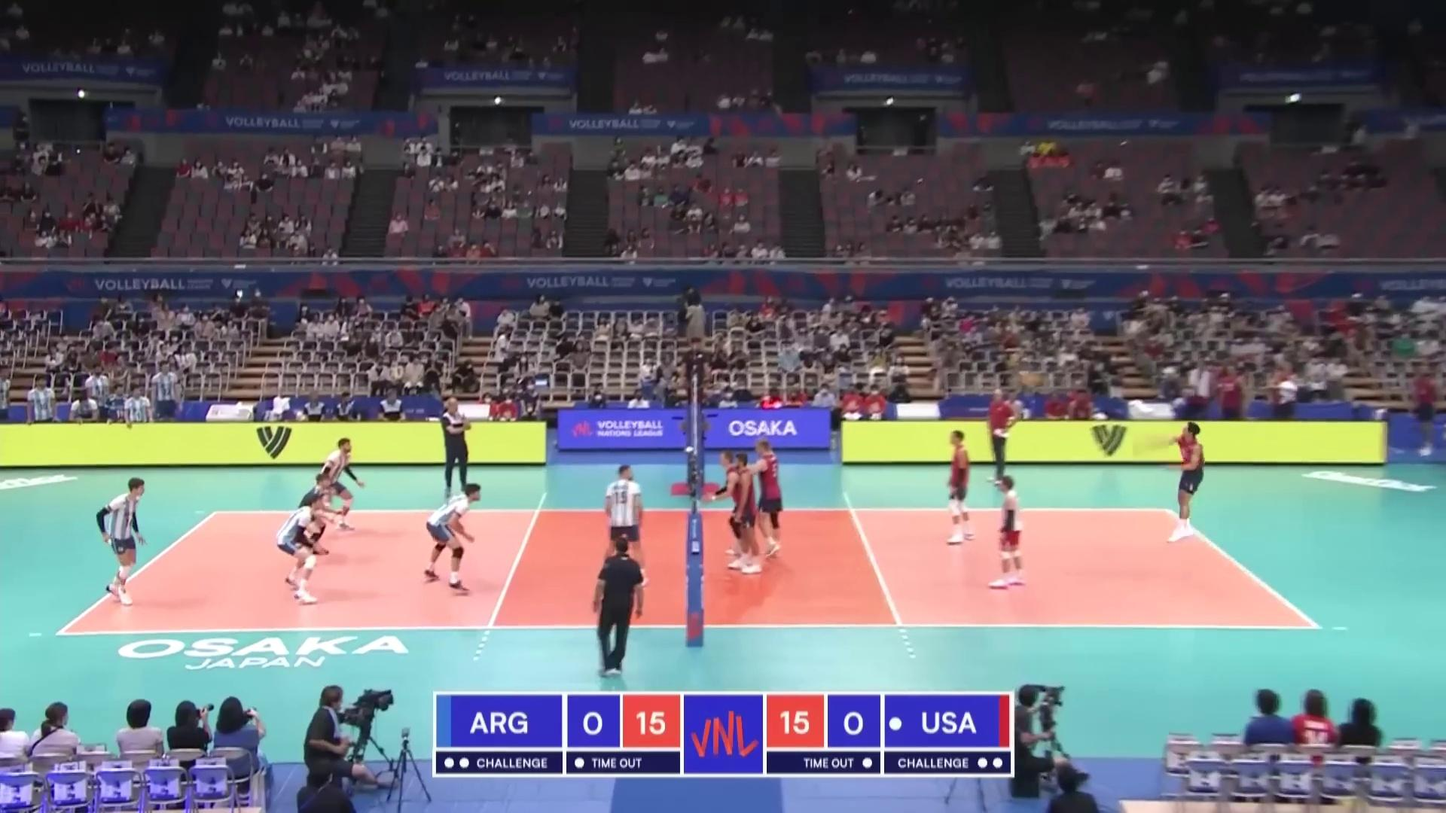player: (422, 485, 484, 596), (94, 479, 148, 606), (275, 492, 327, 605), (604, 465, 648, 589), (1168, 419, 1206, 546), (711, 451, 750, 569), (315, 439, 363, 531), (987, 477, 1026, 588), (728, 455, 764, 574), (944, 428, 977, 546), (295, 475, 334, 566), (753, 441, 783, 557)
refree: (595, 538, 645, 676), (676, 339, 712, 428)
